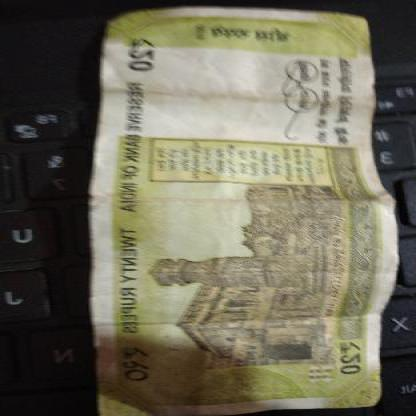New20Back: (96, 20, 375, 415)
